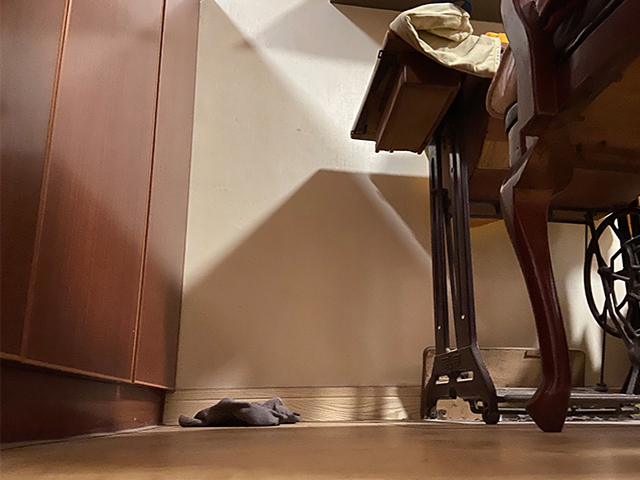cabinet: (1, 1, 199, 449)
socks: (177, 395, 302, 428)
stool: (500, 1, 640, 433)
